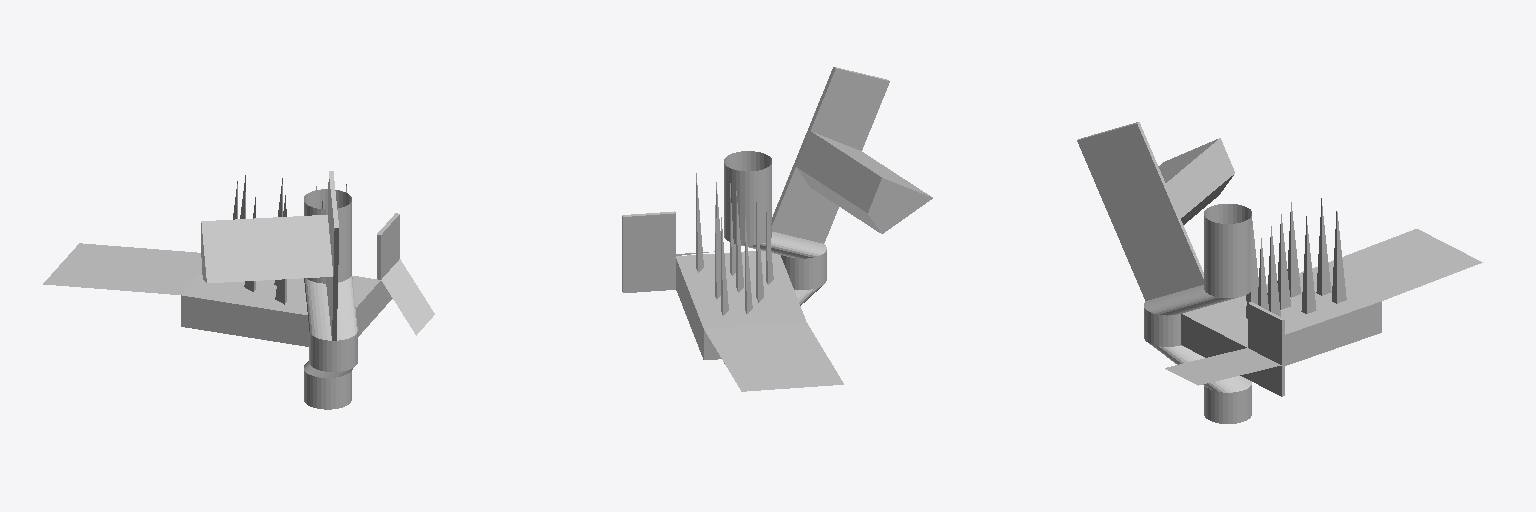
The model's file is lll2.obj.
The picture shows the model from 3 angles: view 1: azimuth 30°, elevation 25°; view 2: azimuth 150°, elevation 25°; view 3: azimuth 270°, elevation 25°; orthographic projection.
Visible parts, largest first — view 1: Circle; view 2: Circle; view 3: Circle.
Part boxes in pixels (left/top/right/bottom): Circle: left=43, top=171, right=434, bottom=409; Circle: left=622, top=67, right=932, bottom=391; Circle: left=1077, top=122, right=1482, bottom=423.
Size of the model in its own units: 13.77 by 12.3 by 16.7.